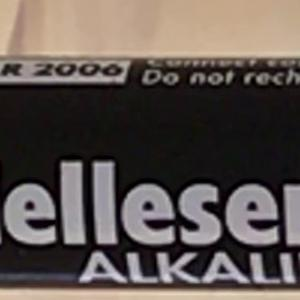keyword: (69, 242, 197, 293)
